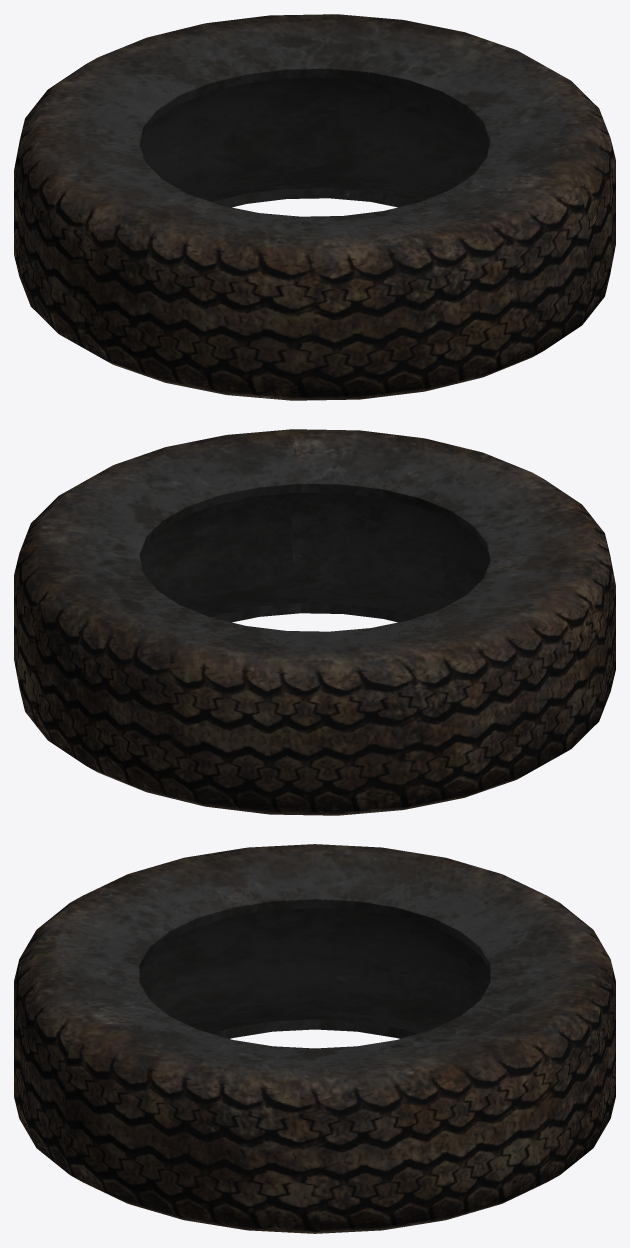
The model's file is Tire.FBX.
The picture shows the model from 3 angles, top to bottom: view 1: azimuth 30°, elevation 25°; view 2: azimuth 150°, elevation 25°; view 3: azimuth 270°, elevation 25°; orthographic projection.
Parts seen in each view (by area): view 1: Cylinder002; view 2: Cylinder002; view 3: Cylinder002.
Part boxes in pixels (bbox=[...]): Cylinder002: bbox=[14, 14, 615, 400]; Cylinder002: bbox=[14, 429, 615, 815]; Cylinder002: bbox=[14, 844, 615, 1233].
Bounding box in the file's own units: 0.5827 × 0.1611 × 0.5784.
